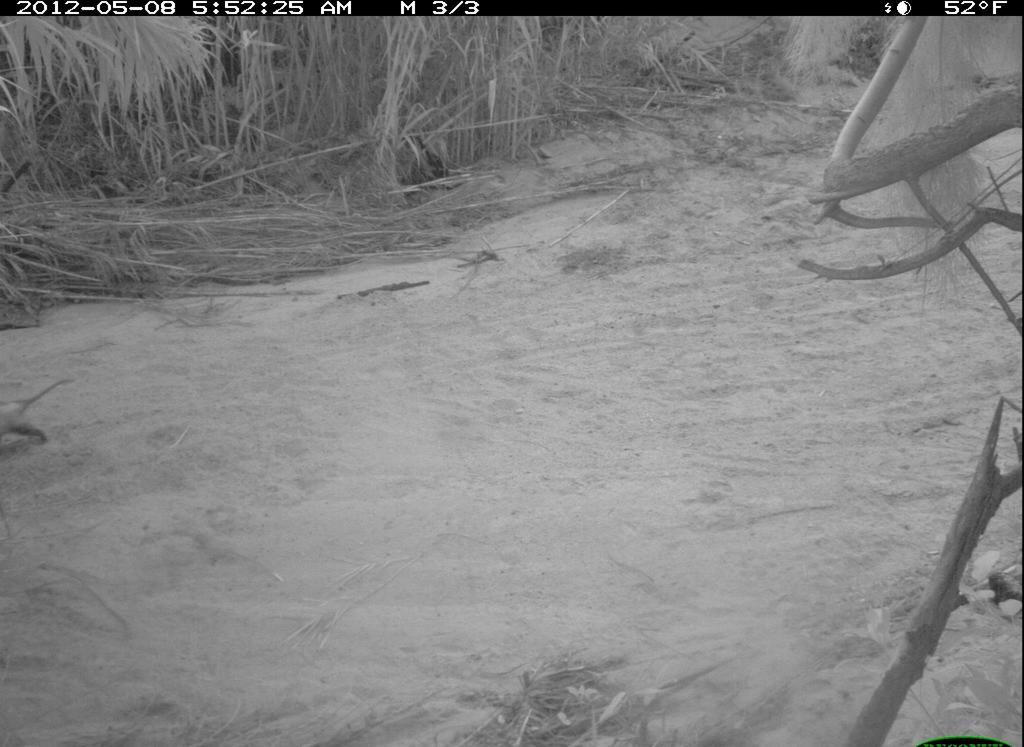opossum: (4, 377, 95, 455)
